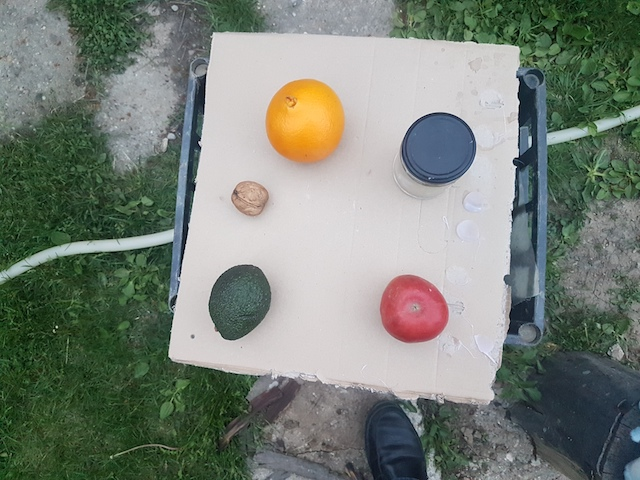apple: (380, 272, 453, 345)
avocado: (207, 262, 274, 340)
nut: (232, 180, 270, 216)
orange: (266, 78, 344, 163)
recipient: (404, 110, 477, 187)
